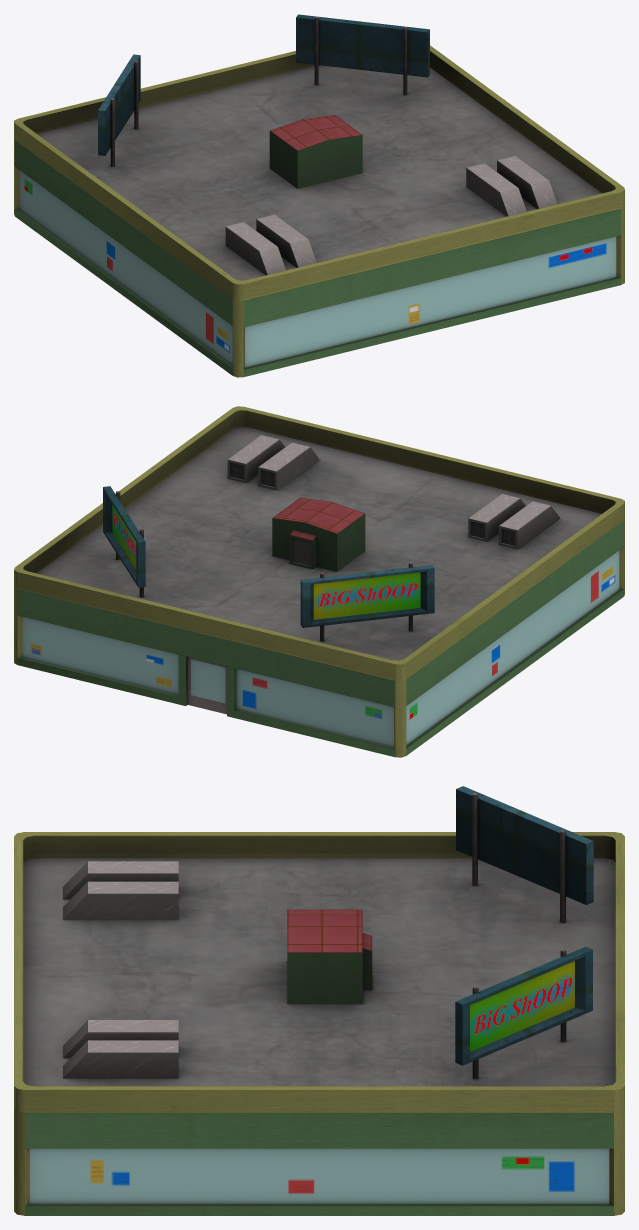
Rendered from Store.fbx.
3 renders of one model, top to bottom at view 1: azimuth 30°, elevation 25°; view 2: azimuth 150°, elevation 25°; view 3: azimuth 270°, elevation 25°, orthographic. The views are drawn at different scales.
Parts seen in each view (by area): view 1: Store3; view 2: Store3; view 3: Store3.
Boxes of the visible parts, x1,y1,x2,y2 form: Store3: (14, 14, 624, 377); Store3: (14, 406, 624, 757); Store3: (14, 786, 624, 1215).
Size of the model in its own units: 1623 by 570 by 1623.
